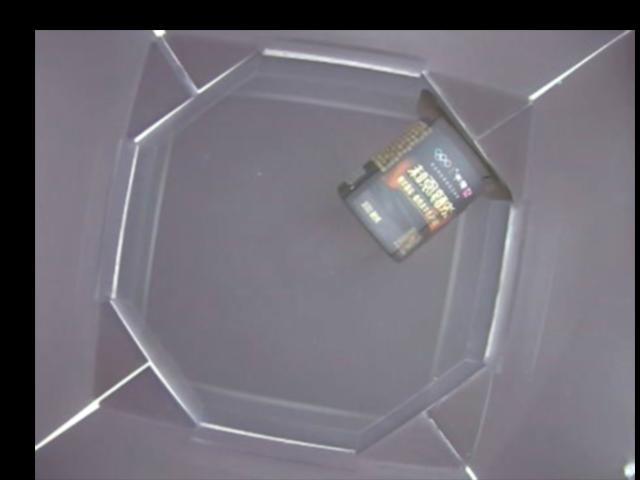Cup: (337, 90, 514, 260)
